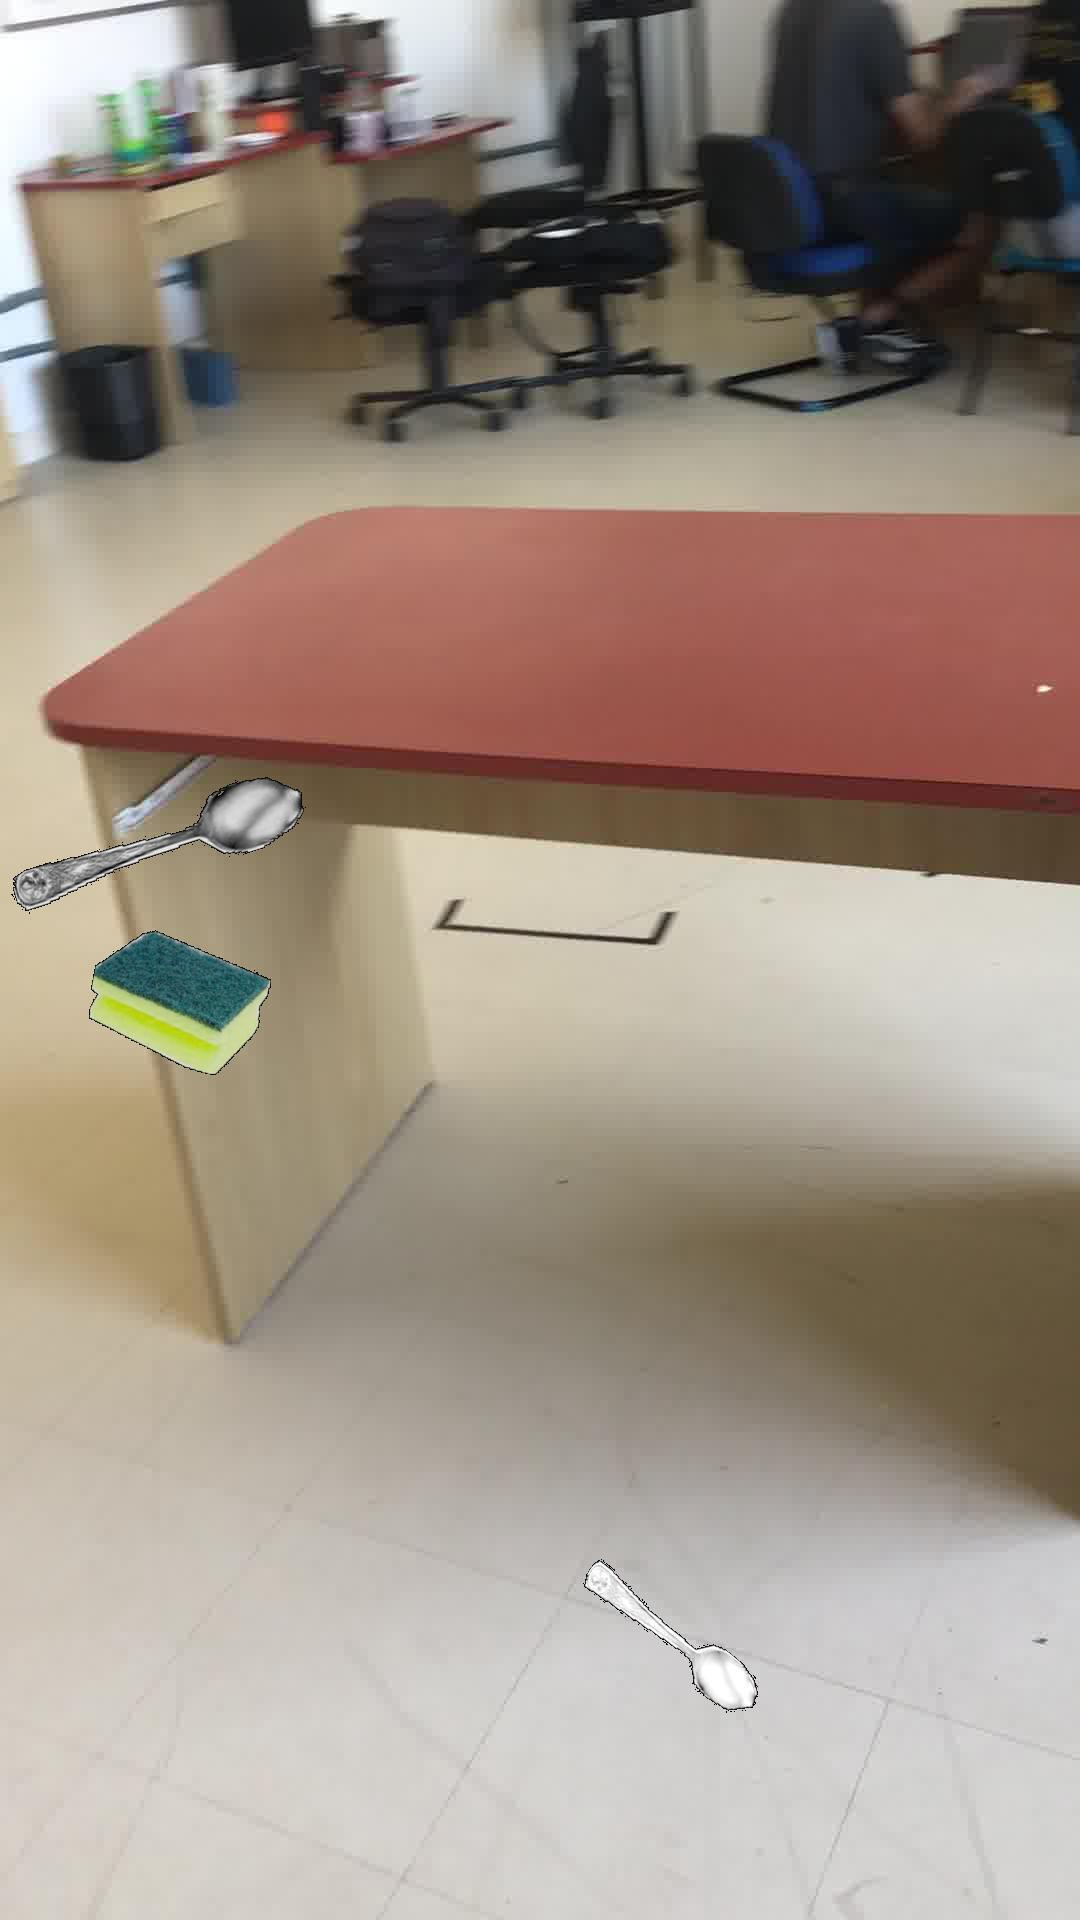sponge: (87, 928, 269, 1073)
spoon: (12, 775, 302, 910), (583, 1559, 757, 1709)
